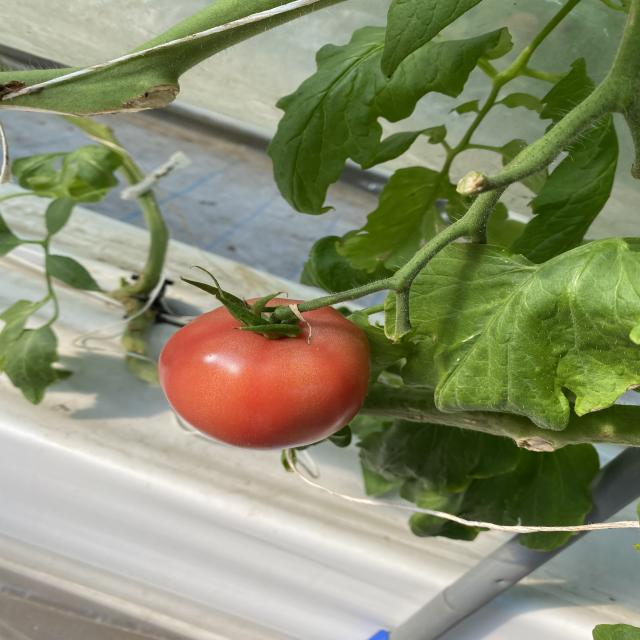n-riped: (159, 297, 371, 451)
